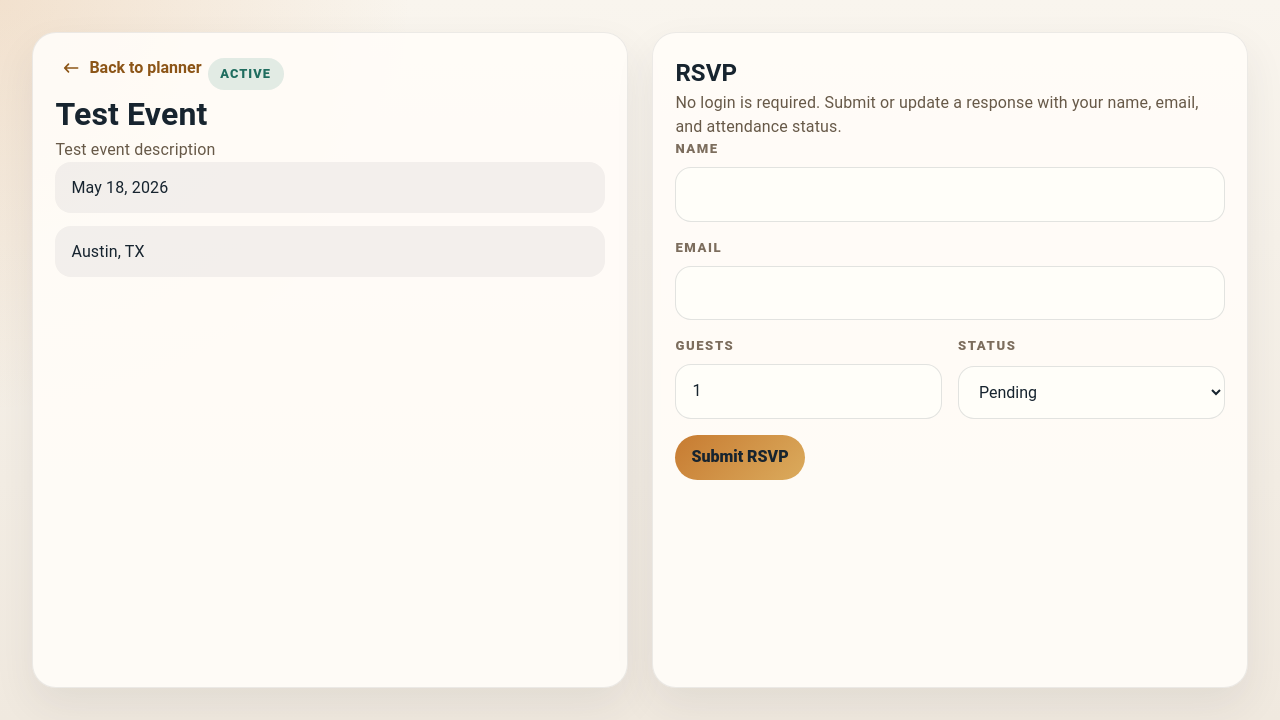
EventPlannerApp › shows inline validation errors when required fields are left empty on the public rsvp form
Expected: the field labelled "Name" is shown, [675,167,1225,222]
Submit without filling in any required fields
Click the button "Submit RSVP".
click(740, 457)  # box [675,435,805,480]
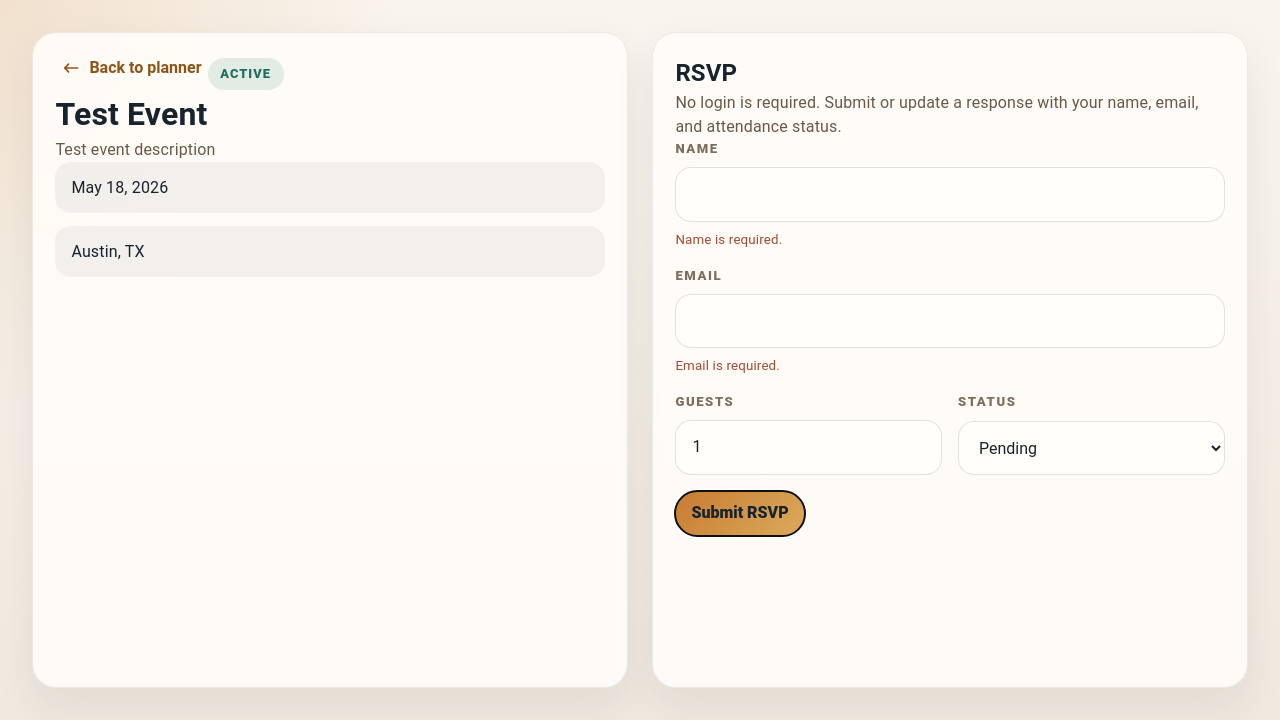
Result: the text "Name is required." is shown at [675,232,782,247]
Result: the text "Email is required." is shown at [675,358,780,373]
